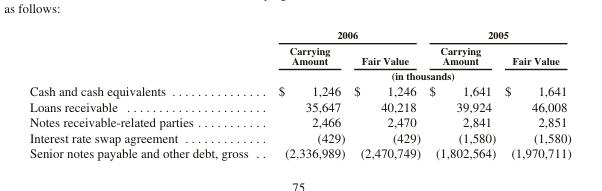table: (28, 28, 570, 159)
table column: (28, 28, 262, 159), (262, 28, 348, 159), (348, 28, 424, 159), (424, 28, 499, 159), (499, 28, 570, 159)
table column header: (28, 28, 570, 82)
table row: (28, 42, 570, 68), (28, 82, 570, 98), (28, 113, 570, 129), (28, 98, 570, 113), (28, 129, 570, 144), (28, 144, 570, 159), (28, 28, 570, 42), (28, 68, 570, 82)
table spanning cell: (262, 68, 570, 82), (262, 28, 424, 42), (424, 28, 570, 42)
